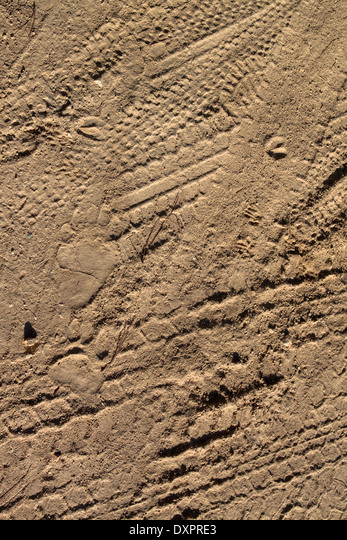raccoon: (56, 185, 157, 321), (36, 315, 122, 403)
